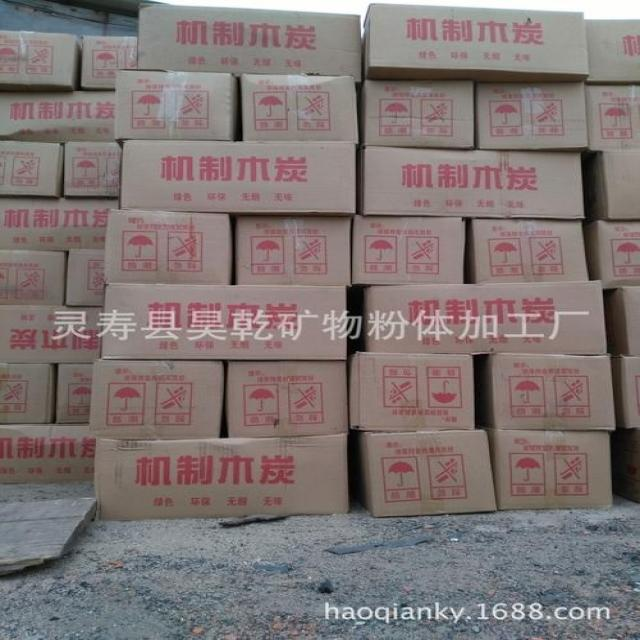box: (95, 431, 348, 521), (102, 279, 347, 361), (363, 277, 607, 352), (141, 2, 363, 84), (119, 139, 358, 214), (361, 5, 588, 82), (357, 146, 586, 219), (351, 424, 503, 516), (89, 357, 229, 438), (476, 353, 619, 430), (490, 428, 615, 509), (348, 353, 472, 432), (106, 208, 231, 283), (225, 360, 348, 436), (355, 76, 478, 150), (114, 69, 240, 139), (231, 213, 356, 282), (354, 211, 467, 285), (464, 217, 589, 281), (236, 72, 357, 138), (474, 78, 590, 146), (0, 193, 118, 251), (1, 302, 105, 362), (0, 87, 115, 139), (0, 420, 92, 482), (1, 28, 84, 90), (0, 136, 67, 200), (0, 247, 68, 308), (582, 147, 639, 217), (584, 216, 639, 288), (73, 35, 137, 91), (60, 139, 125, 194), (586, 81, 637, 148), (584, 21, 639, 83), (0, 363, 51, 422), (601, 281, 639, 356), (66, 248, 109, 308), (53, 363, 94, 423), (613, 348, 639, 428)
